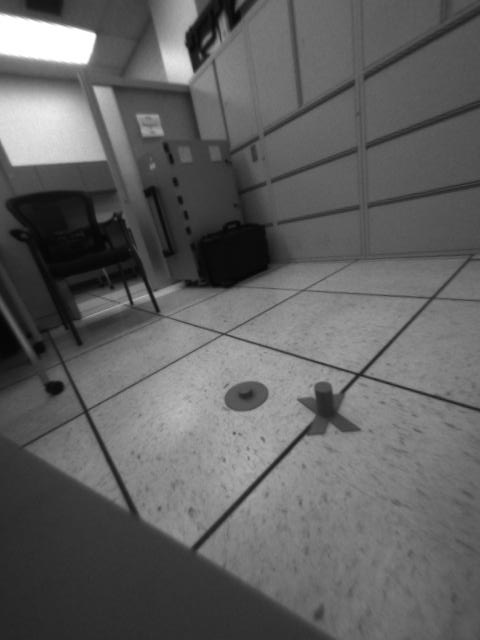X: (297, 380, 364, 435)
